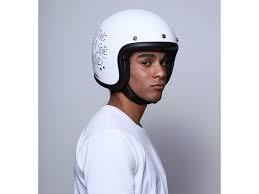helmet: (91, 8, 179, 103)
